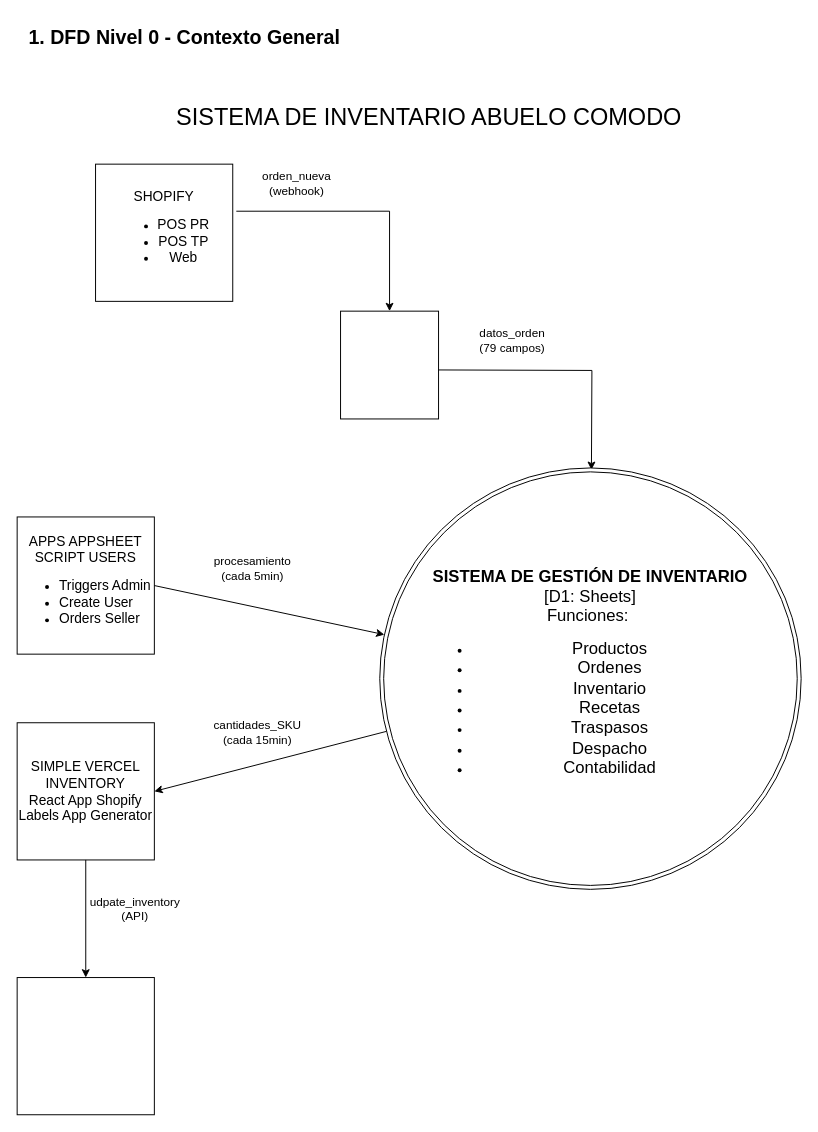
This 818x1132 diagram has some shape labels left out. Each missing label, with the centre of its shape:
"SHOPIFY APPSHEET (Inventory USERS Updated) (PDF)" belongs at point 85,1046.
"Zapier Transform + Foute" belongs at point 389,364.
